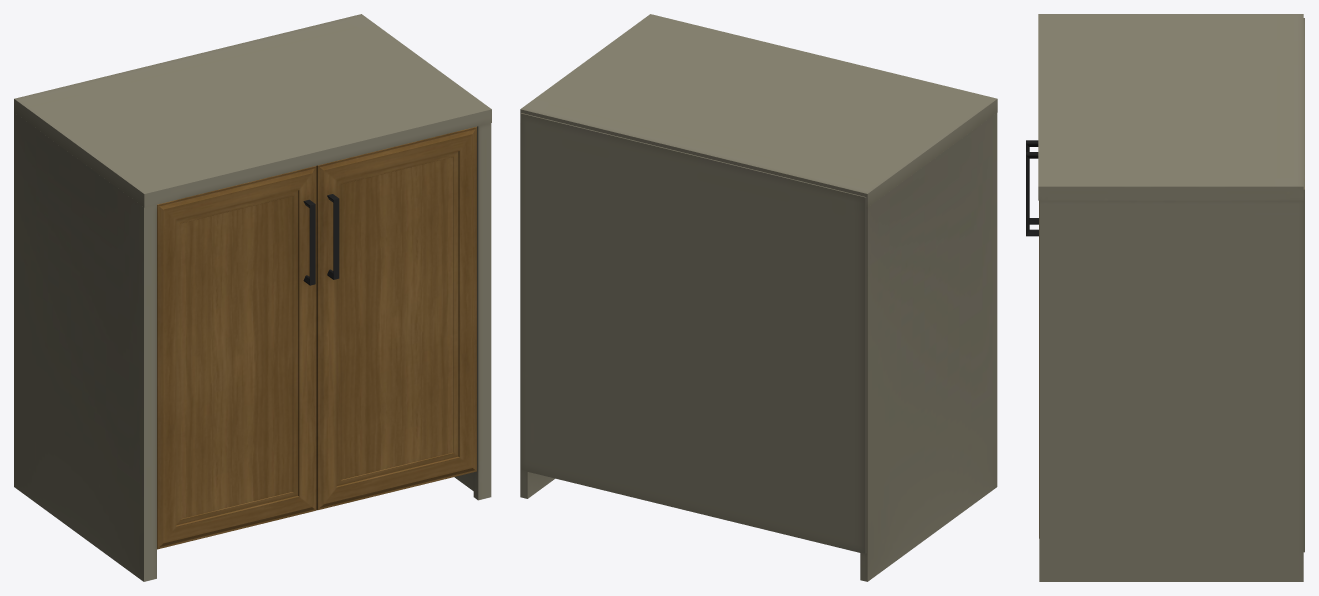
The model's file is balcao80.glb.
The picture shows the model from 3 angles, left to right: view 1: azimuth 30°, elevation 25°; view 2: azimuth 150°, elevation 25°; view 3: azimuth 270°, elevation 25°; orthographic projection.
Visible parts, largest first — view 1: BALCAO80; view 2: BALCAO80; view 3: BALCAO80.
Boxes of the visible parts, x1,y1,x2,y2 form: BALCAO80: [14, 14, 491, 581]; BALCAO80: [520, 14, 997, 581]; BALCAO80: [1026, 14, 1304, 581].
Bounding box in the file's own units: 0.801 × 0.855 × 0.5463.
1 material, 1 textured.
